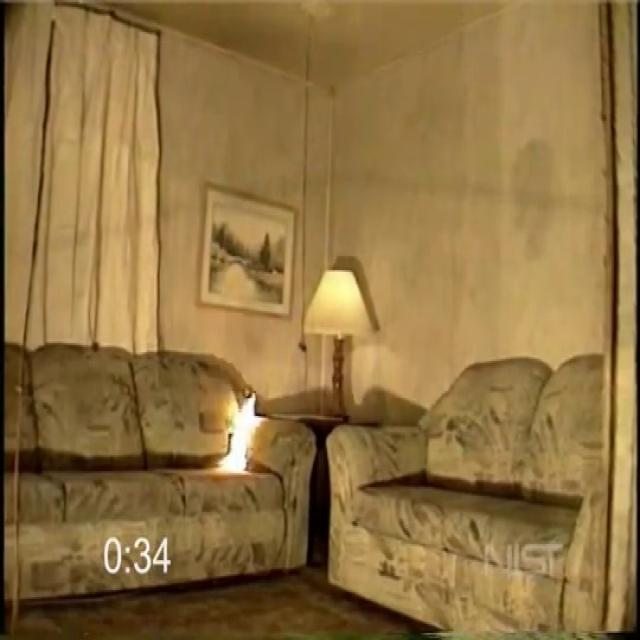Fire: (212, 374, 267, 478)
